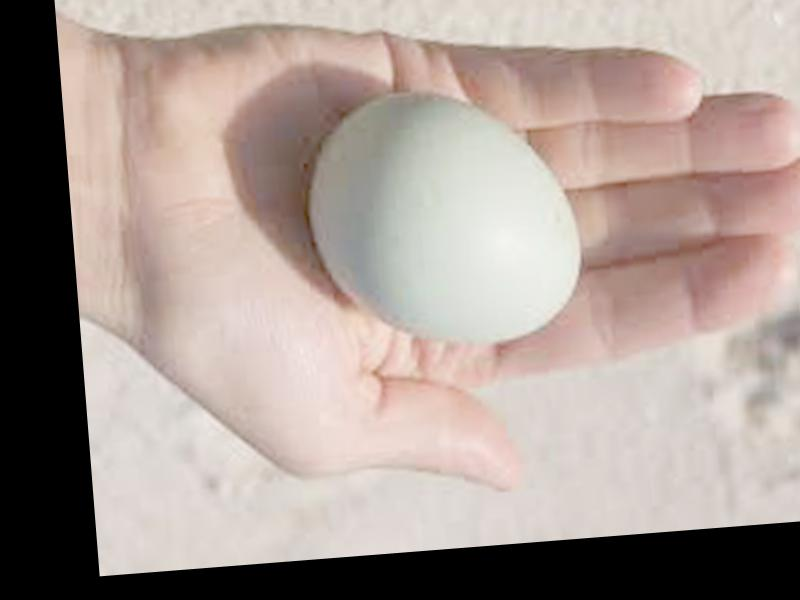Eggs: (307, 79, 580, 349)
